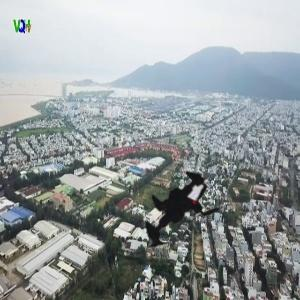drone: (116, 149, 249, 282)
